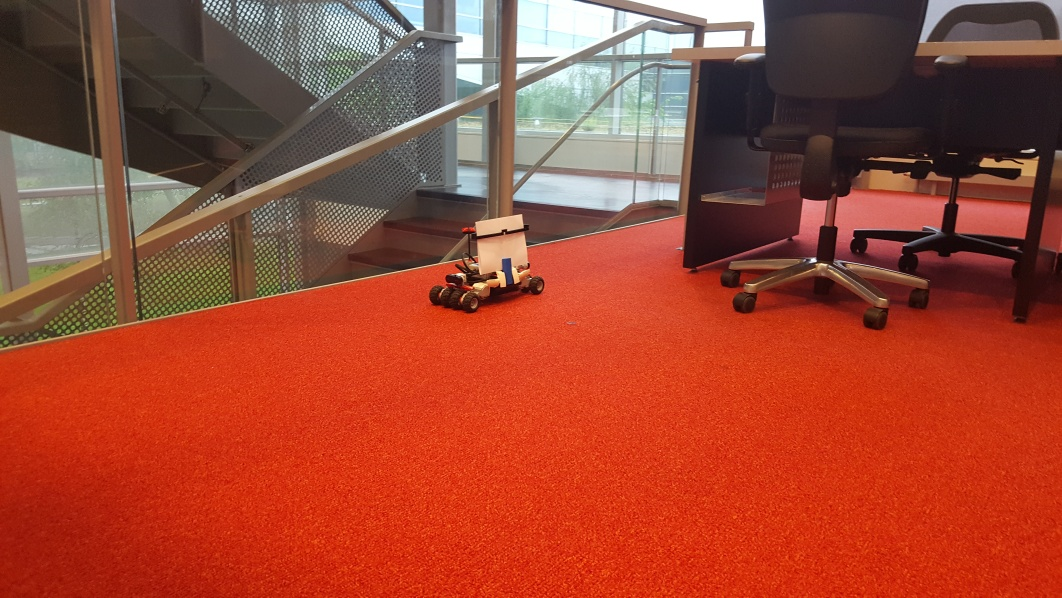car: (430, 214, 546, 314)
